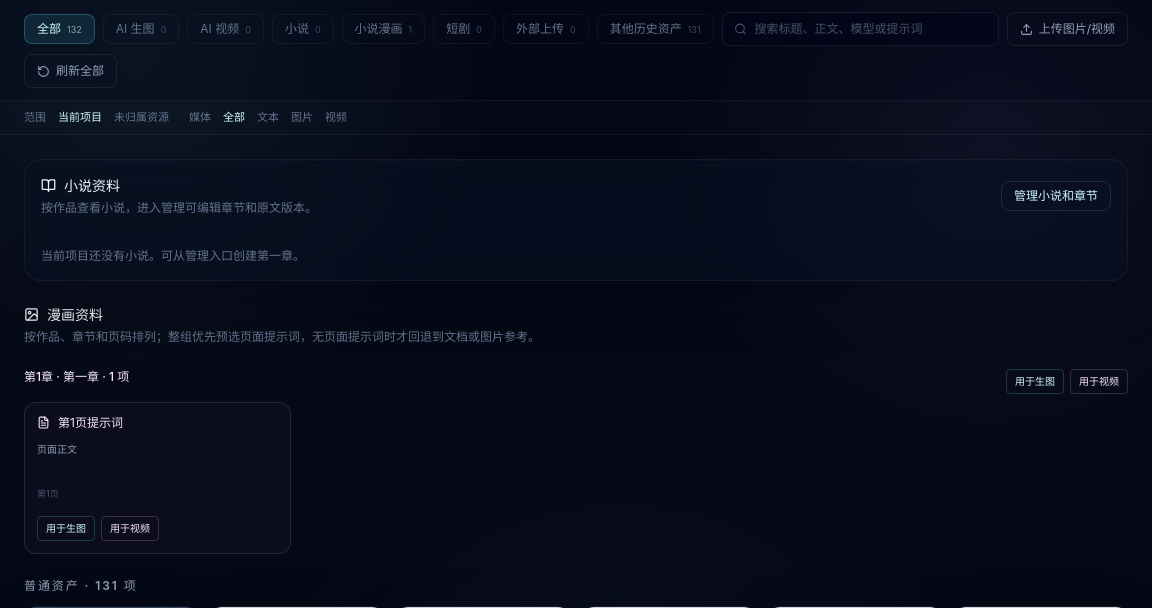
Test case: AssetsPage comic preview › opens as a named dialog and closes with Escape
Click the button "第1页提示词 页面正文 第1页". click: [90, 422]
box: [25,402,290,508]
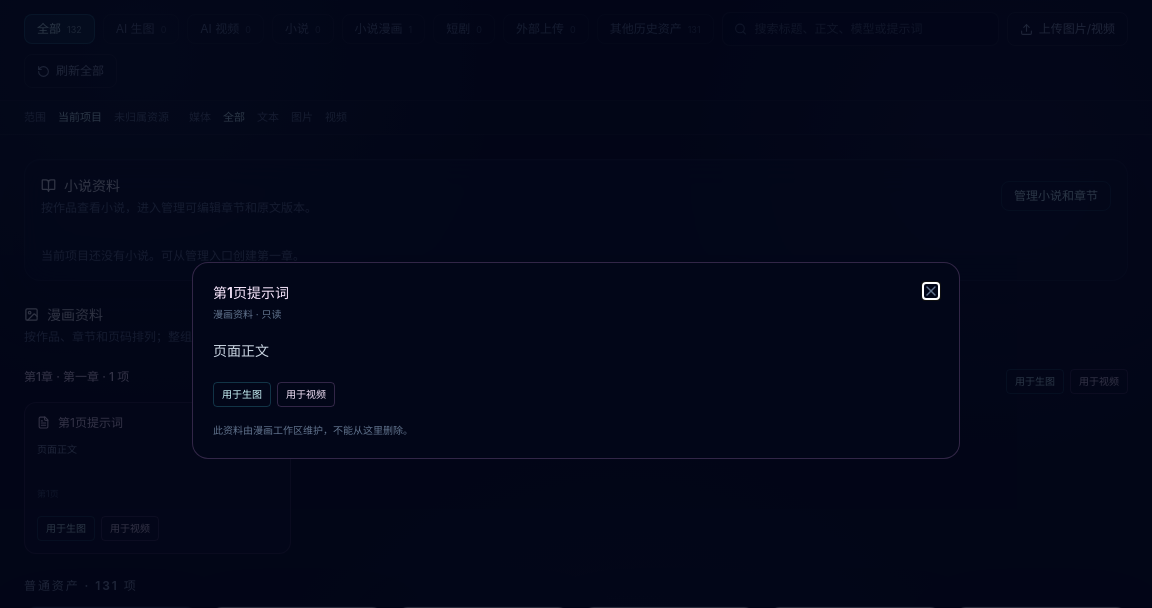
Press Escape
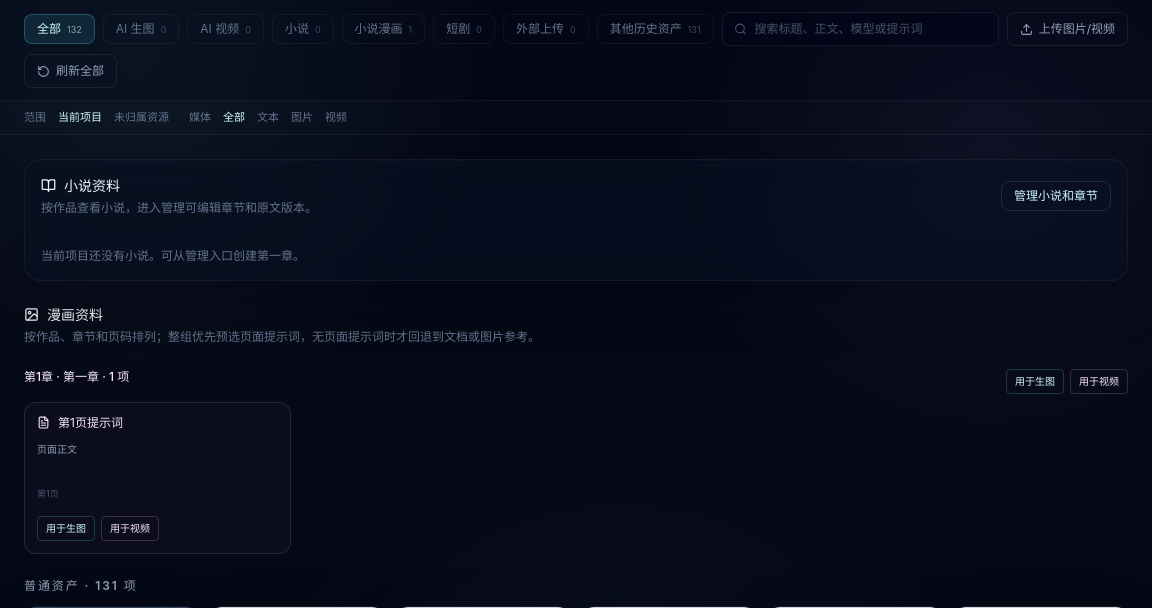
Now the dialog is gone
